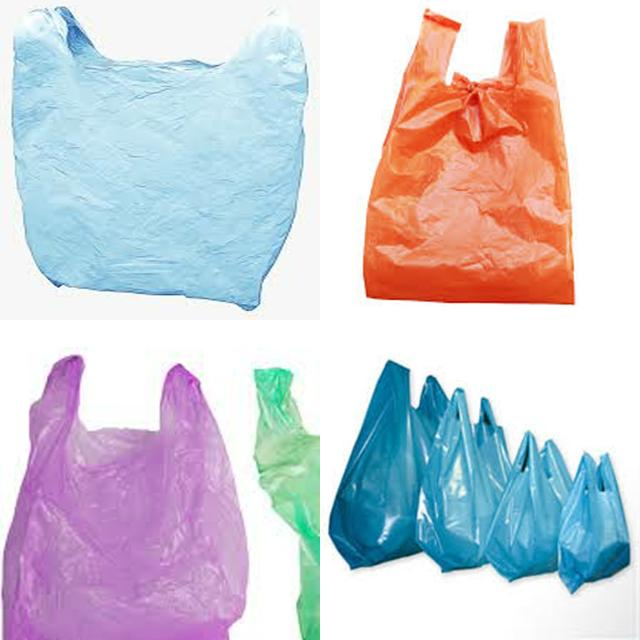Single-layer Plastic: (12, 8, 308, 310), (4, 356, 248, 639), (364, 10, 574, 304), (329, 361, 428, 569), (254, 368, 320, 639), (418, 389, 498, 571), (485, 431, 562, 581), (559, 454, 630, 592)
